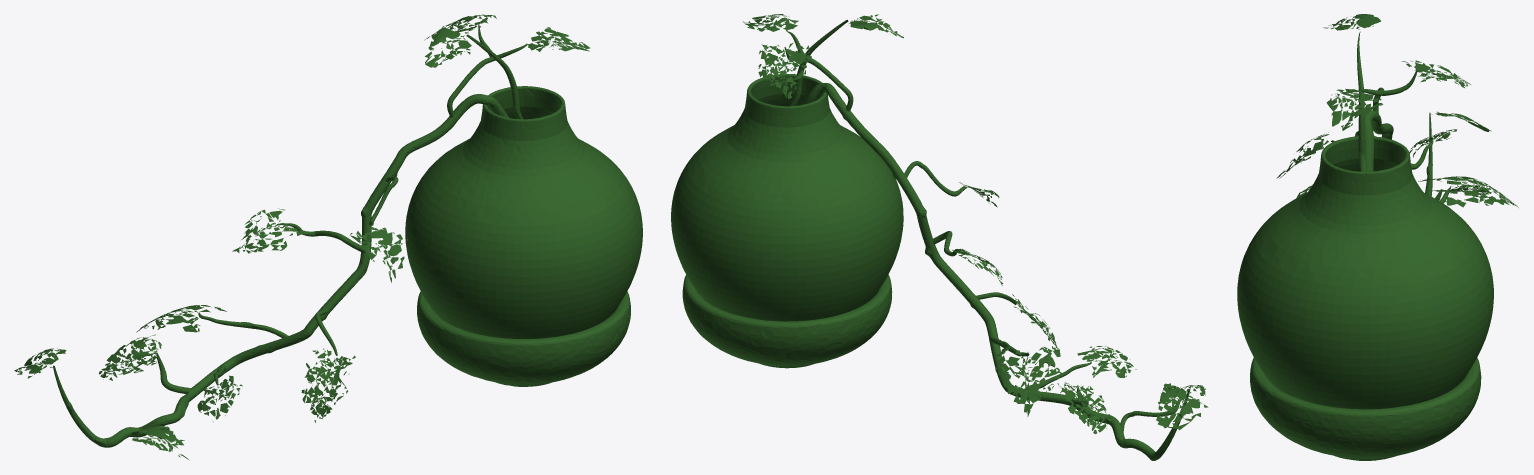
File: efeu.obj
3 renders of one model, left to right at view 1: azimuth 30°, elevation 25°; view 2: azimuth 150°, elevation 25°; view 3: azimuth 270°, elevation 25°, orthographic. The views are drawn at different scales.
Visible parts, largest first — view 1: obj_0; view 2: obj_0; view 3: obj_0.
Boxes of the visible parts, x1,y1,x2,y2 form: obj_0: (14, 14, 642, 460); obj_0: (671, 14, 1208, 460); obj_0: (1237, 14, 1518, 460).
Bounding box in the file's own units: 139 × 83.29 × 55.29.
